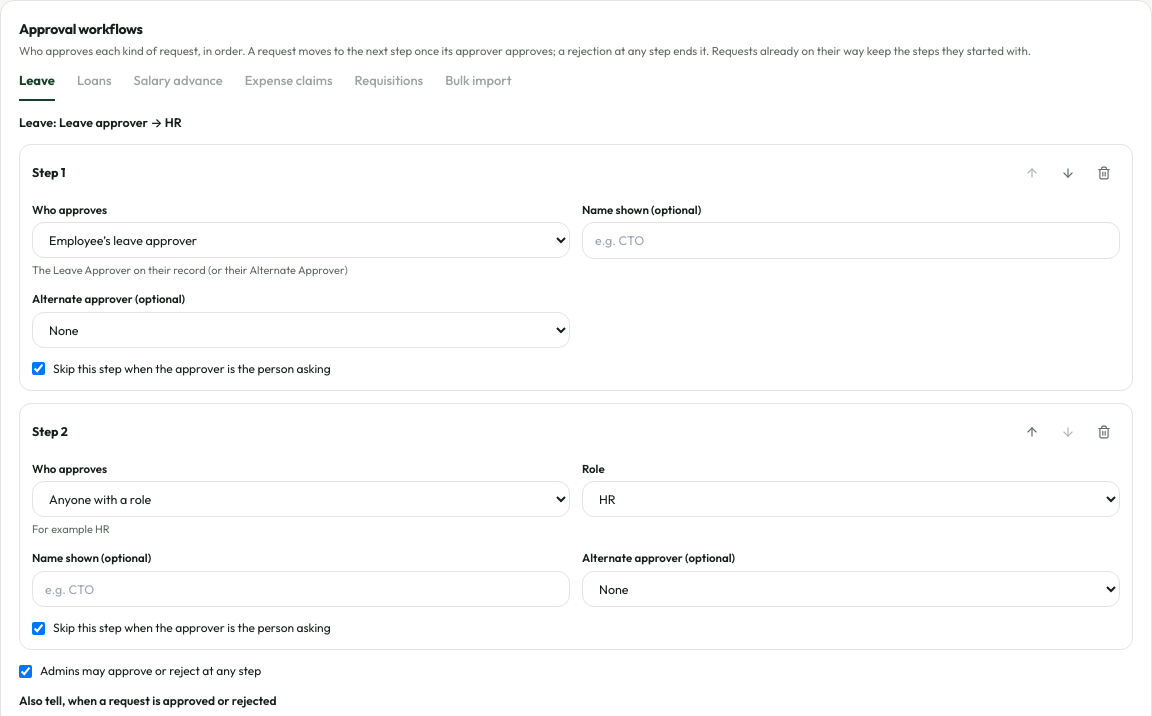
Test: Approval workflows card › reorders and removes steps
The image size is (1152, 716).
Expected: the text "Leave: Leave approver → HR" is shown, [19,114,182,130]
Step 1. Click the button named "Move step 2 up" → (1032, 432), box [1016,416,1048,448]
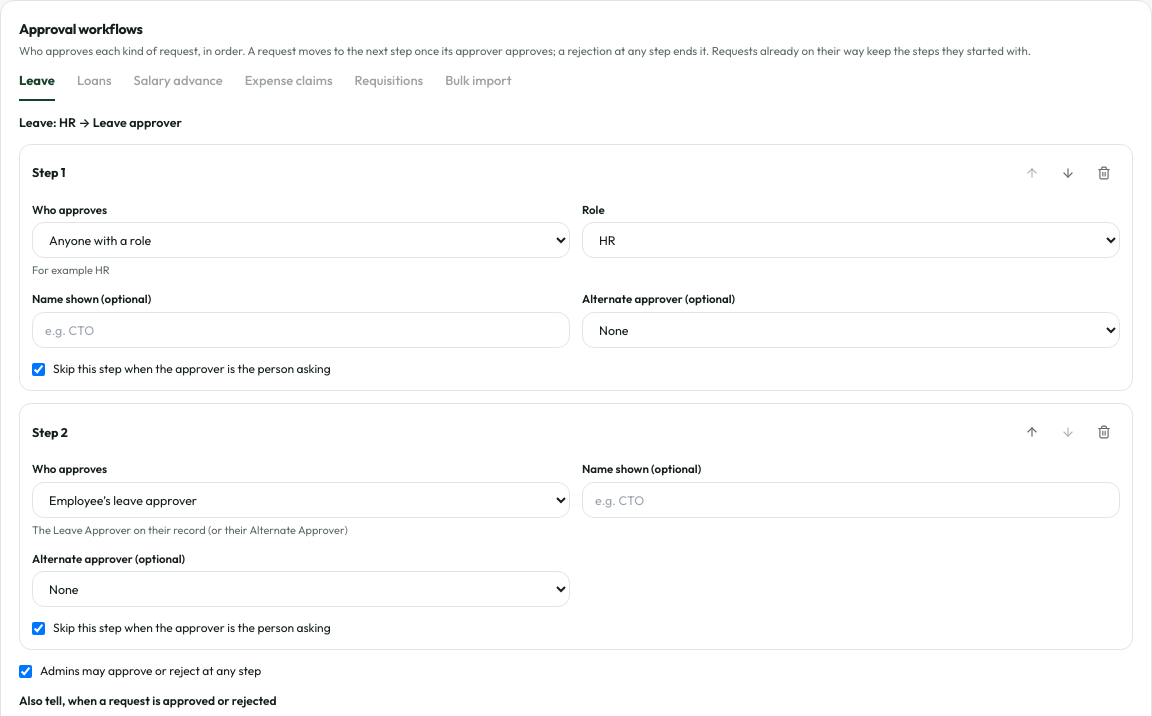
Now the text with test id "approval-preview" reads "Leave: HR → Leave approver", box [19,114,182,130]
Step 2. Click the button named "Remove step 1" → (1104, 172), box [1088,156,1120,188]
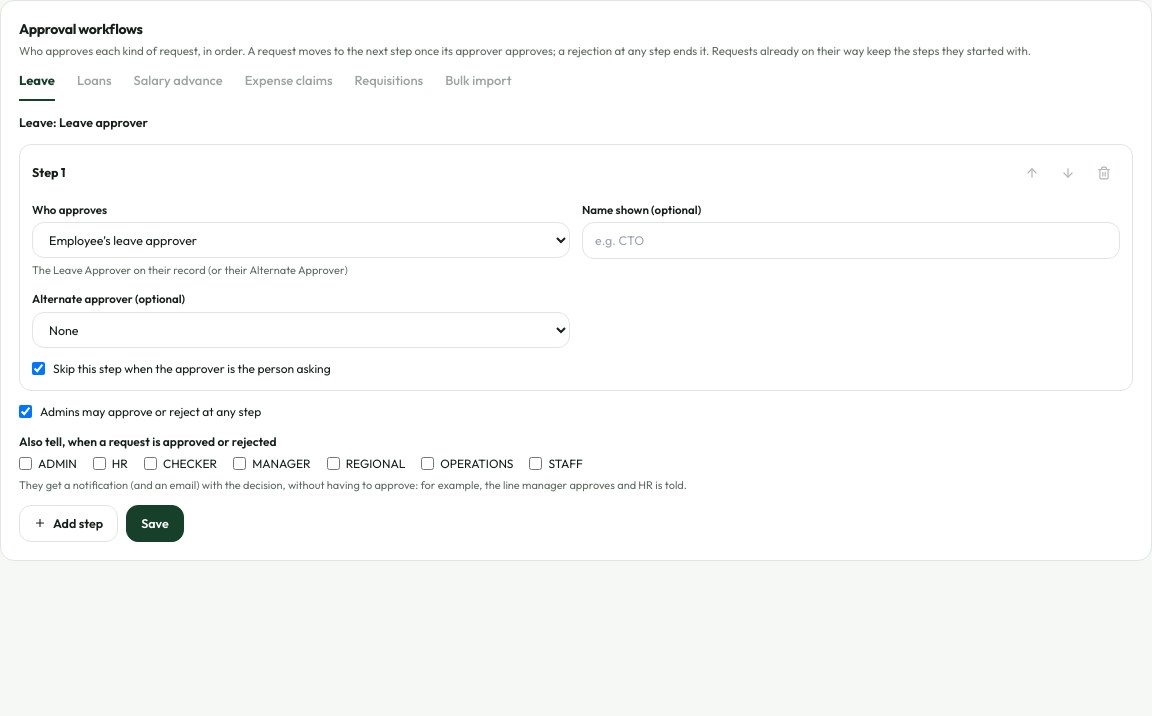
Now the text with test id "approval-preview" reads "Leave: Leave approver", box [19,114,148,130]
Now the button named "Remove step 1" is disabled, box [1088,156,1120,188]
